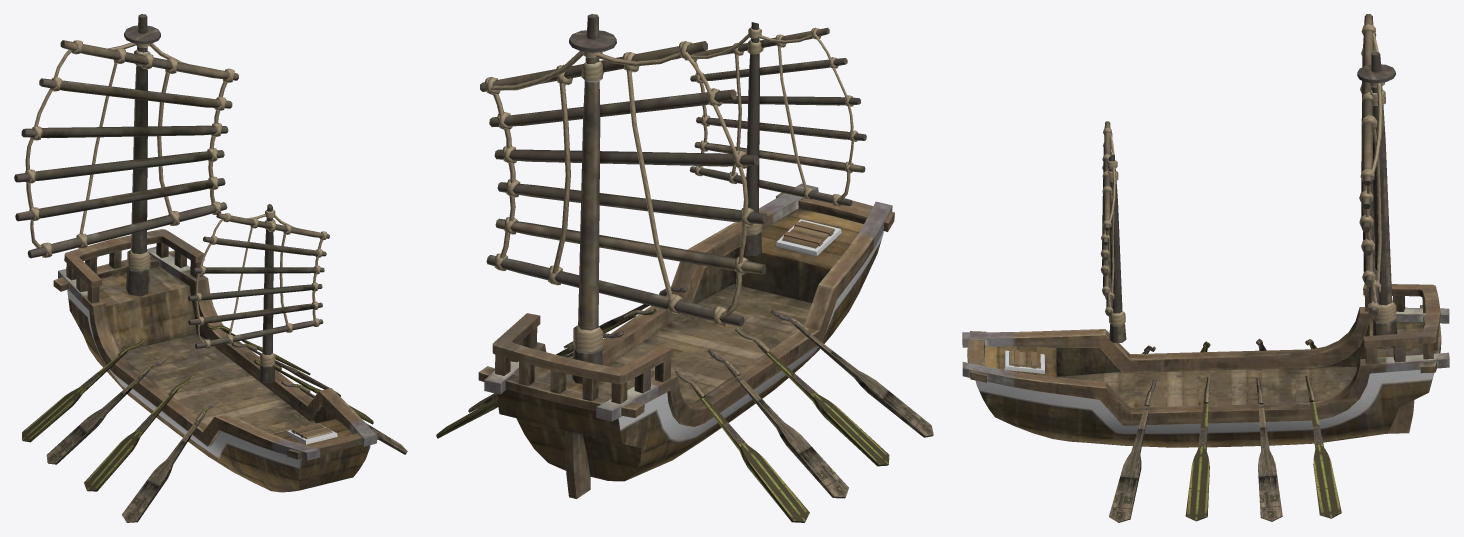
Rendered from body-base.glb.
3 views of the same model, side by side, from view 1: azimuth 30°, elevation 25°; view 2: azimuth 150°, elevation 25°; view 3: azimuth 270°, elevation 25° (orthographic). The views are drawn at different scales.
Bounding box in the file's own units: 4.81 × 6.03 × 6.67.
2 materials, 2 textured.
